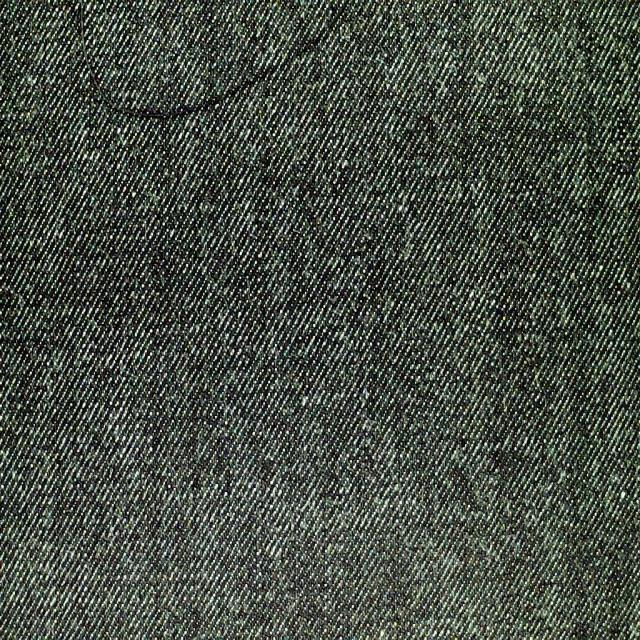defect: (66, 0, 362, 128)
